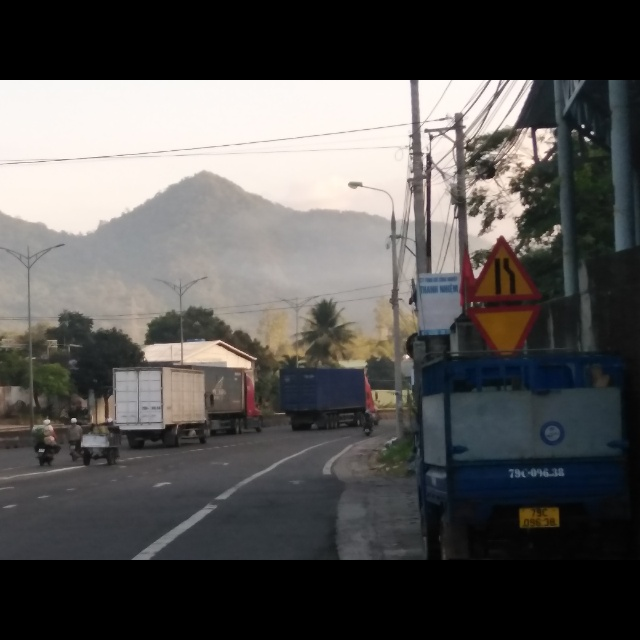Giao nhau với đường ưu tiên: (467, 305, 542, 354)
Đường bị hẹp bên phải: (468, 234, 543, 303)
